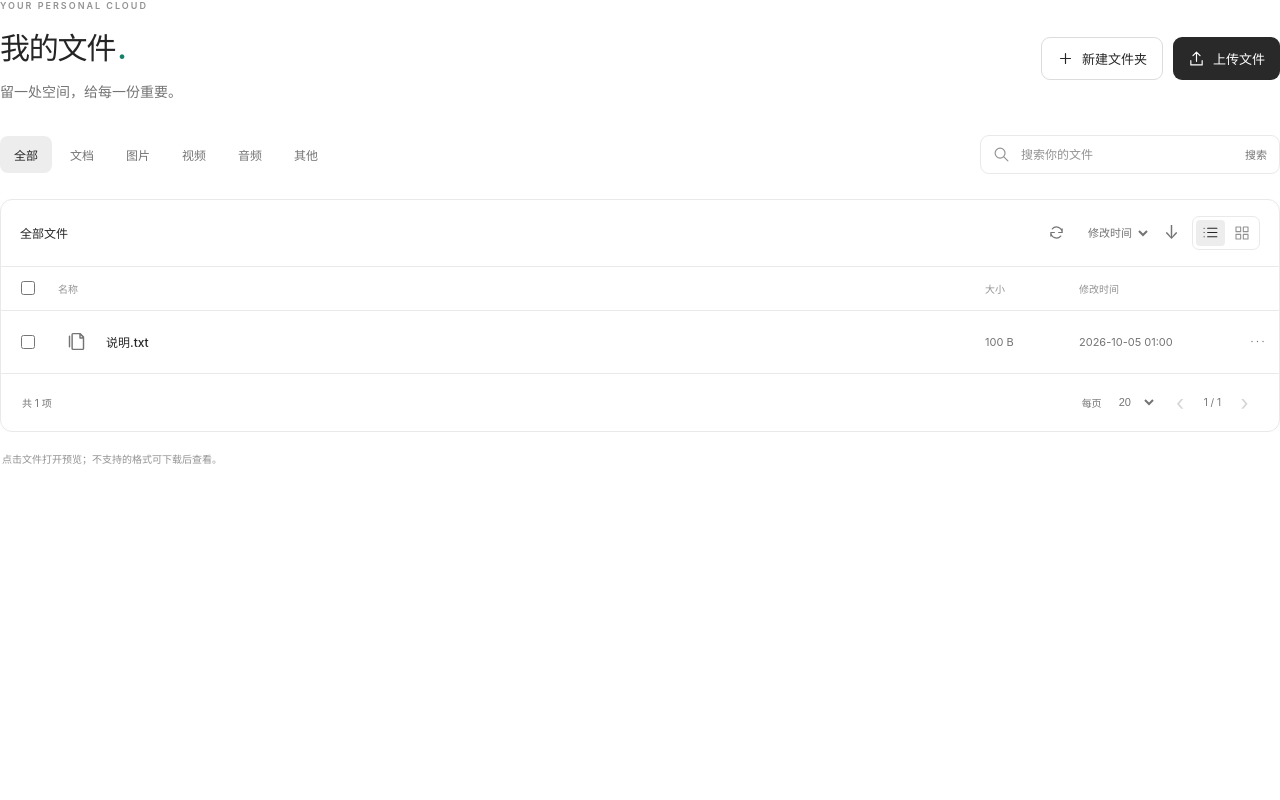
Test: 文件页分享接线 › 详情切换到单层分享对话框，创建成功保留链接供复制
Step 1. Click the button named "说明.txt 的详情和操作" → (1257, 342), box x1=1239 y1=324 x2=1275 y2=360
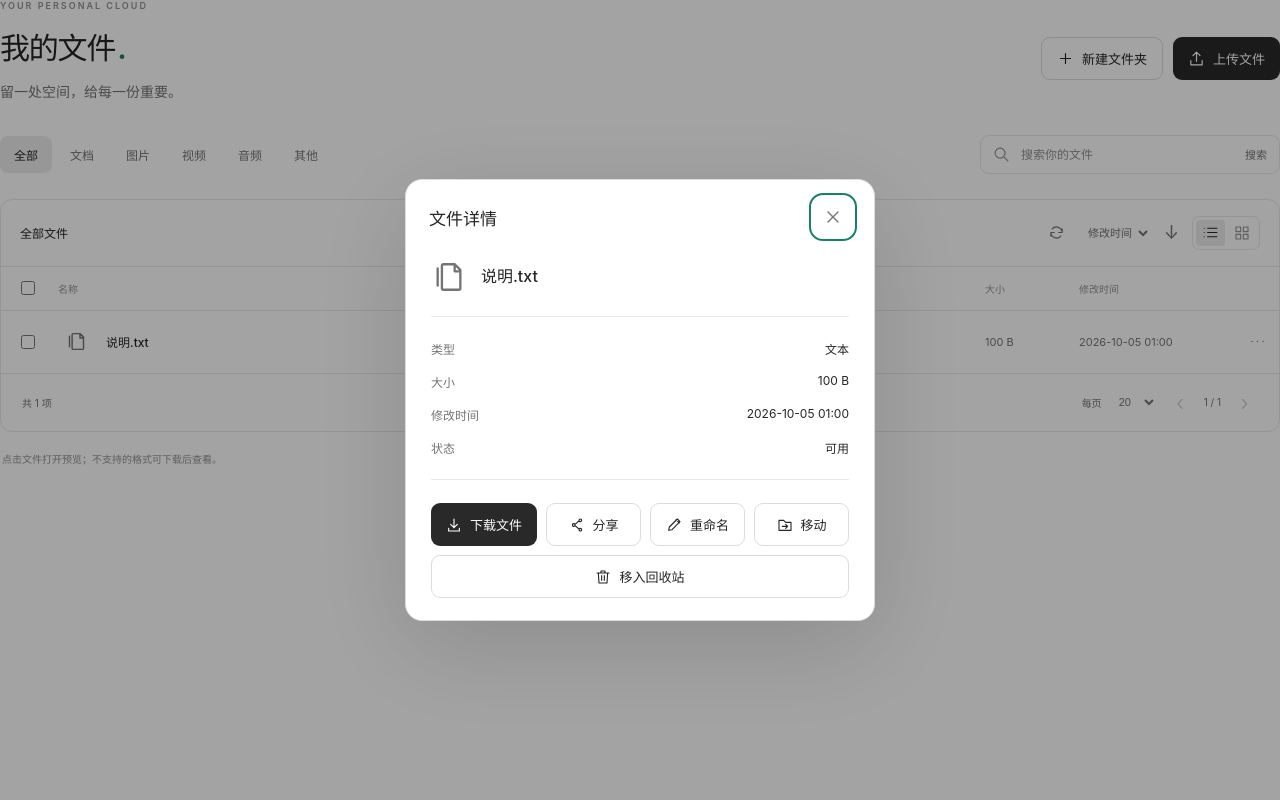
Step 2. Click the button "分享" → (594, 524), box x1=546 y1=503 x2=641 y2=546
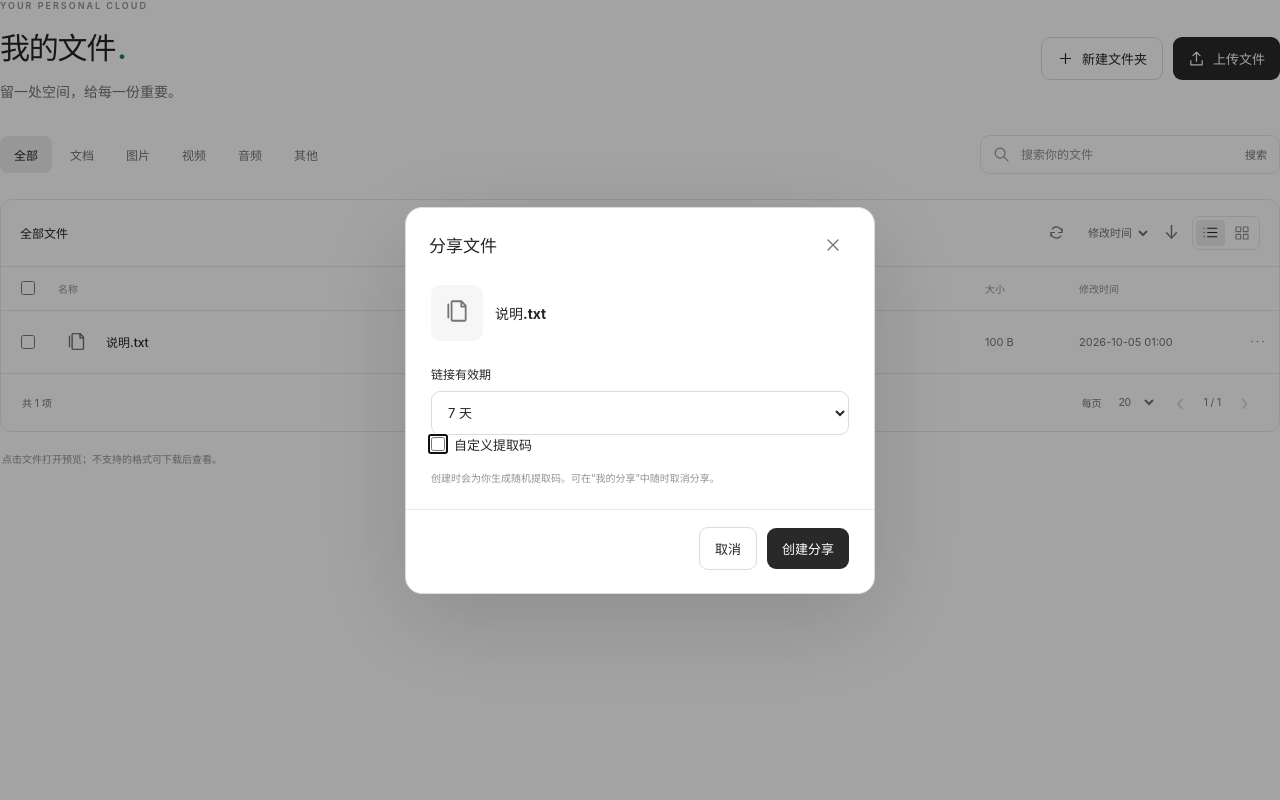
expect the number of dialogs is 1: met, box x1=405 y1=206 x2=875 y2=594
Step 3. Submit the form with id "share-create-form", box x1=431 y1=364 x2=849 y2=486
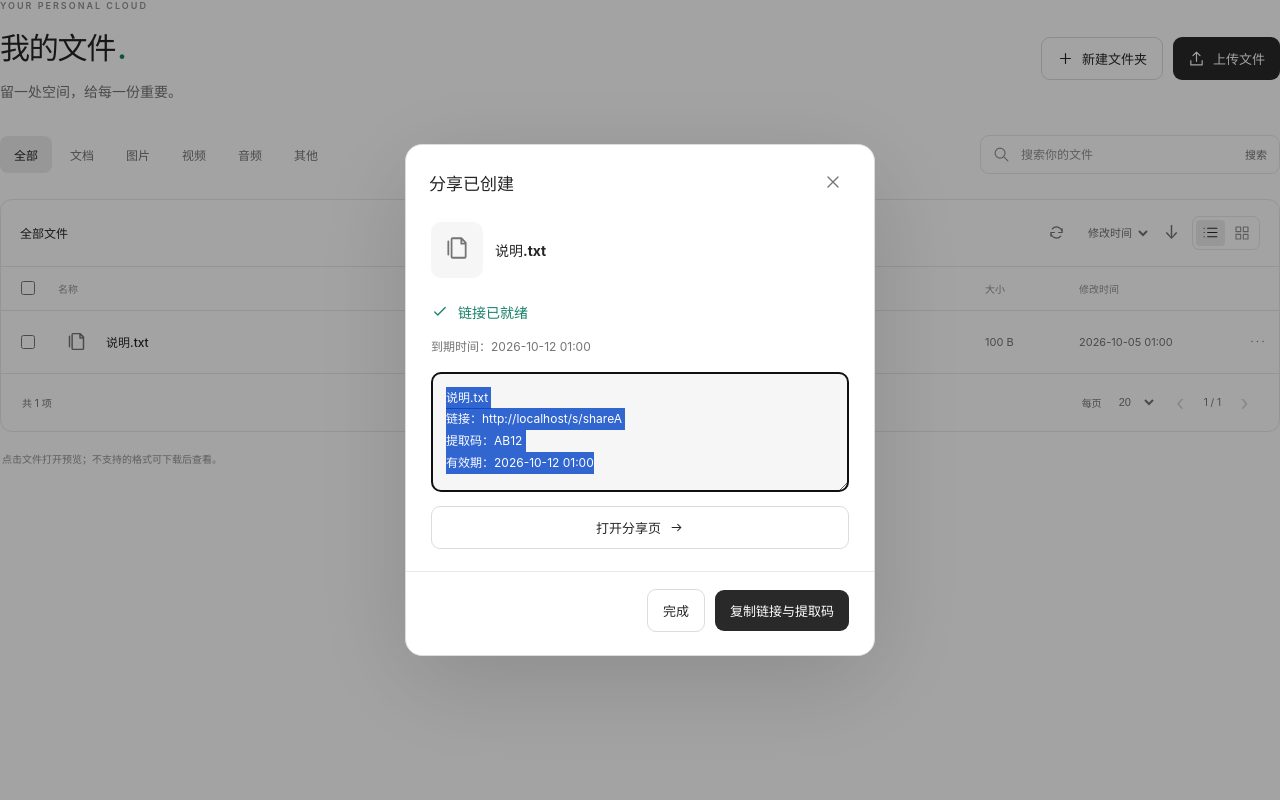
expect the number of dialogs is 1: met, box x1=405 y1=144 x2=875 y2=656
expect the dialog shows "分享已创建": met, box x1=429 y1=174 x2=514 y2=194
